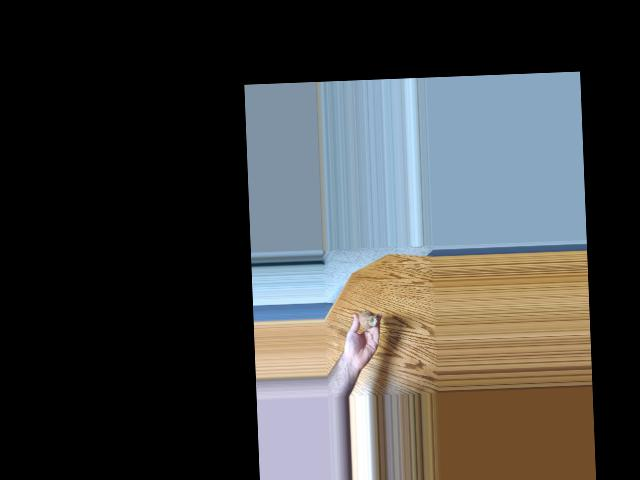sweet_potato: (358, 309, 376, 328)
